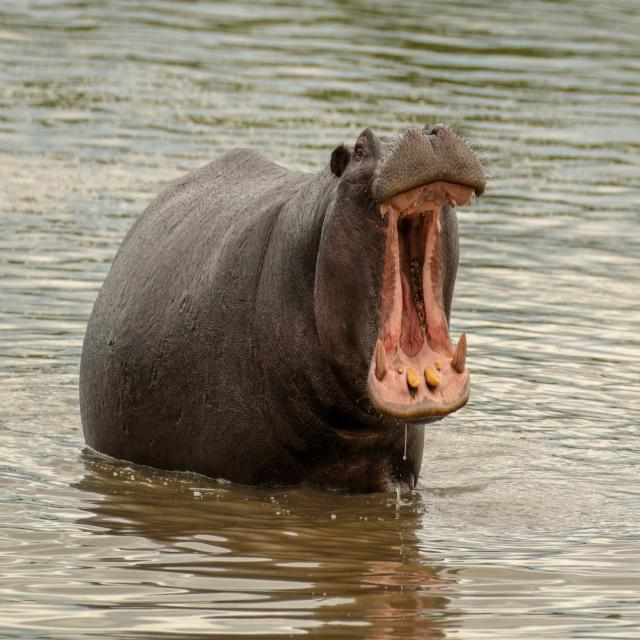Hippopotamus: (72, 119, 491, 489)
